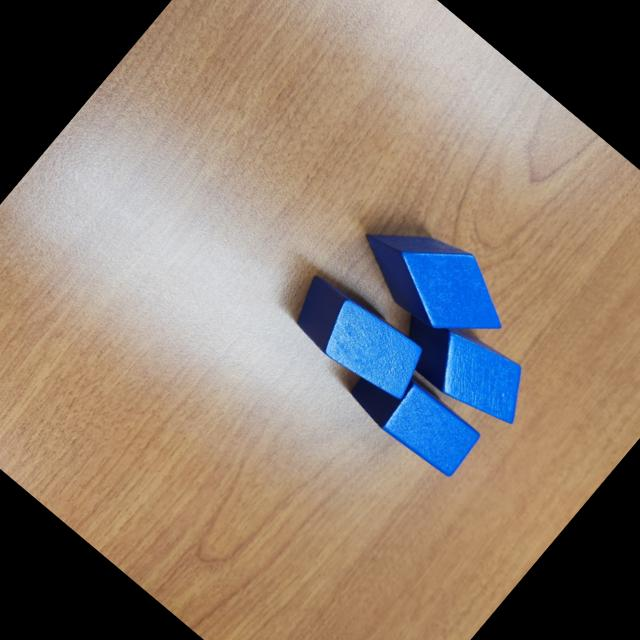blue: (343, 194, 525, 367), (278, 264, 440, 416), (384, 290, 544, 441), (342, 351, 486, 485)
